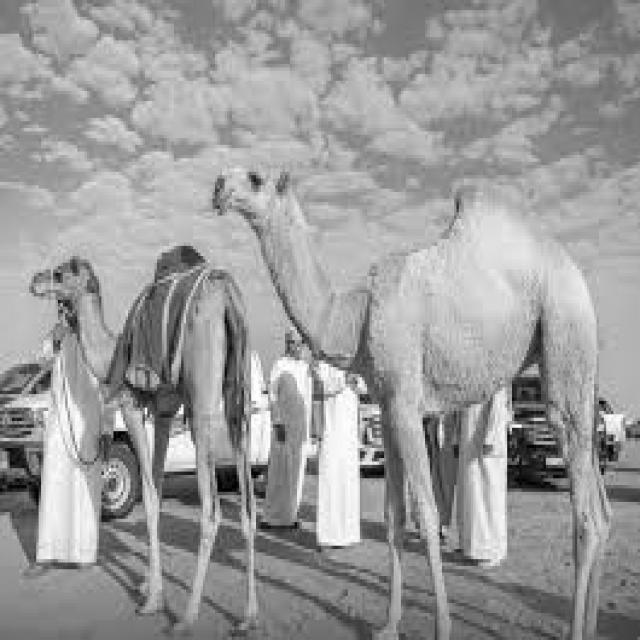Camel: (210, 162, 614, 636), (27, 250, 258, 634)
